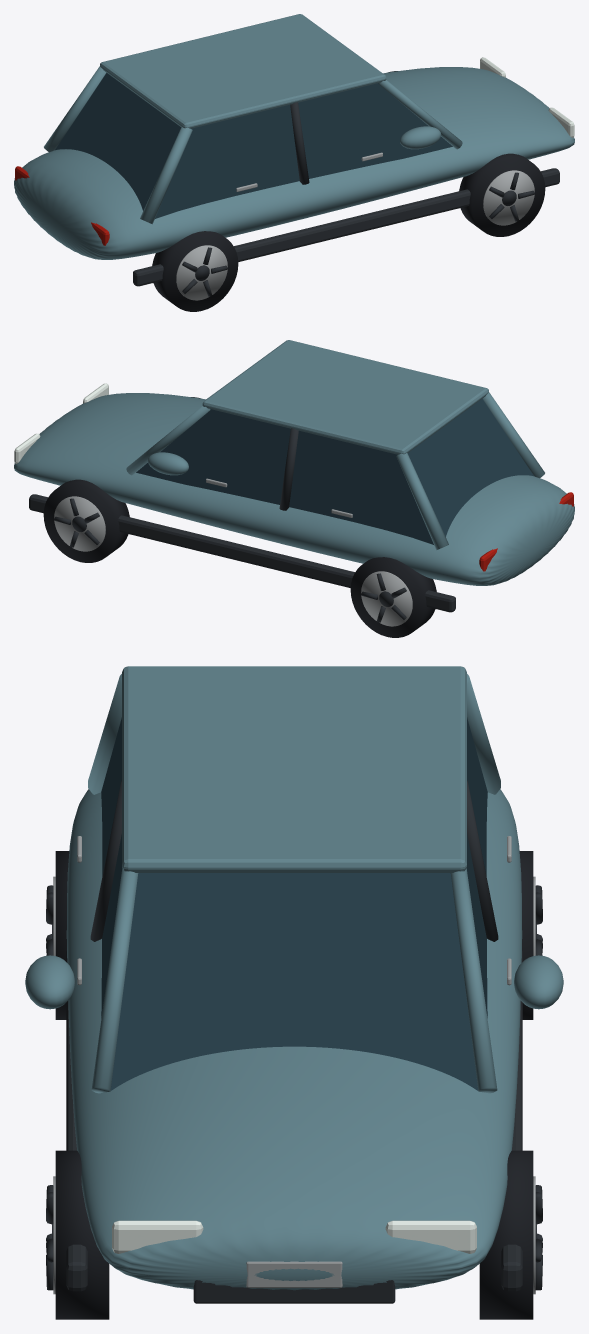
Rendered from compact_wagon.glb.
3 views of the same model, one above another, from view 1: azimuth 30°, elevation 25°; view 2: azimuth 150°, elevation 25°; view 3: azimuth 270°, elevation 25° (orthographic). The views are drawn at different scales.
Parts seen in each view (by area): view 1: Coachwork, GlazedCabin, Roof, Sill.001, Tyre.003, Tyre.002, WheelRim.003, WheelRim.002, RearPillar.001, RearPillar, A_Pillar.001, B_Pillar.001 (+1 smaller); view 2: Coachwork, GlazedCabin, Roof, Sill, Tyre.001, Tyre, WheelRim.001, WheelRim, RearPillar, RearPillar.001, A_Pillar, B_Pillar (+1 smaller); view 3: Coachwork, Roof, GlazedCabin, Tyre.003, Tyre.001, A_Pillar, A_Pillar.001, Grille, Headlight, Headlight.001, Mirror, Mirror.001 (+9 smaller).
Part boxes in pixels (x1,y1,x2,y2): Coachwork: (14, 67, 574, 259); GlazedCabin: (55, 73, 452, 218); Roof: (100, 14, 386, 128); Sill.001: (133, 168, 559, 286); Tyre.003: (459, 153, 545, 236); Tyre.002: (152, 231, 238, 311); WheelRim.003: (483, 170, 534, 225); WheelRim.002: (176, 245, 227, 300); RearPillar.001: (140, 127, 192, 224); RearPillar: (44, 66, 106, 152); A_Pillar.001: (378, 80, 462, 149); B_Pillar.001: (290, 102, 309, 184); Coachwork: (14, 393, 574, 585); GlazedCabin: (136, 399, 533, 544); Roof: (202, 340, 488, 454); Sill: (29, 494, 455, 612); Tyre.001: (43, 479, 129, 562); Tyre: (350, 557, 436, 637); WheelRim.001: (54, 496, 105, 551); WheelRim: (361, 571, 412, 626); RearPillar: (396, 453, 448, 550); RearPillar.001: (482, 392, 544, 478); A_Pillar: (126, 406, 210, 475); B_Pillar: (279, 428, 298, 510); Coachwork: (66, 789, 522, 1290); Roof: (122, 666, 466, 872); GlazedCabin: (101, 717, 487, 1090); Tyre.003: (55, 1150, 109, 1319); Tyre.001: (479, 1150, 533, 1319); A_Pillar: (450, 868, 497, 1093); A_Pillar.001: (91, 868, 138, 1093); Grille: (193, 1280, 395, 1303); Headlight: (385, 1220, 476, 1253); Headlight.001: (112, 1220, 203, 1253); Mirror: (514, 955, 563, 1009); Mirror.001: (25, 955, 74, 1009).
Bounding box in the file's own units: 4.18 × 1.43 × 2.01.
